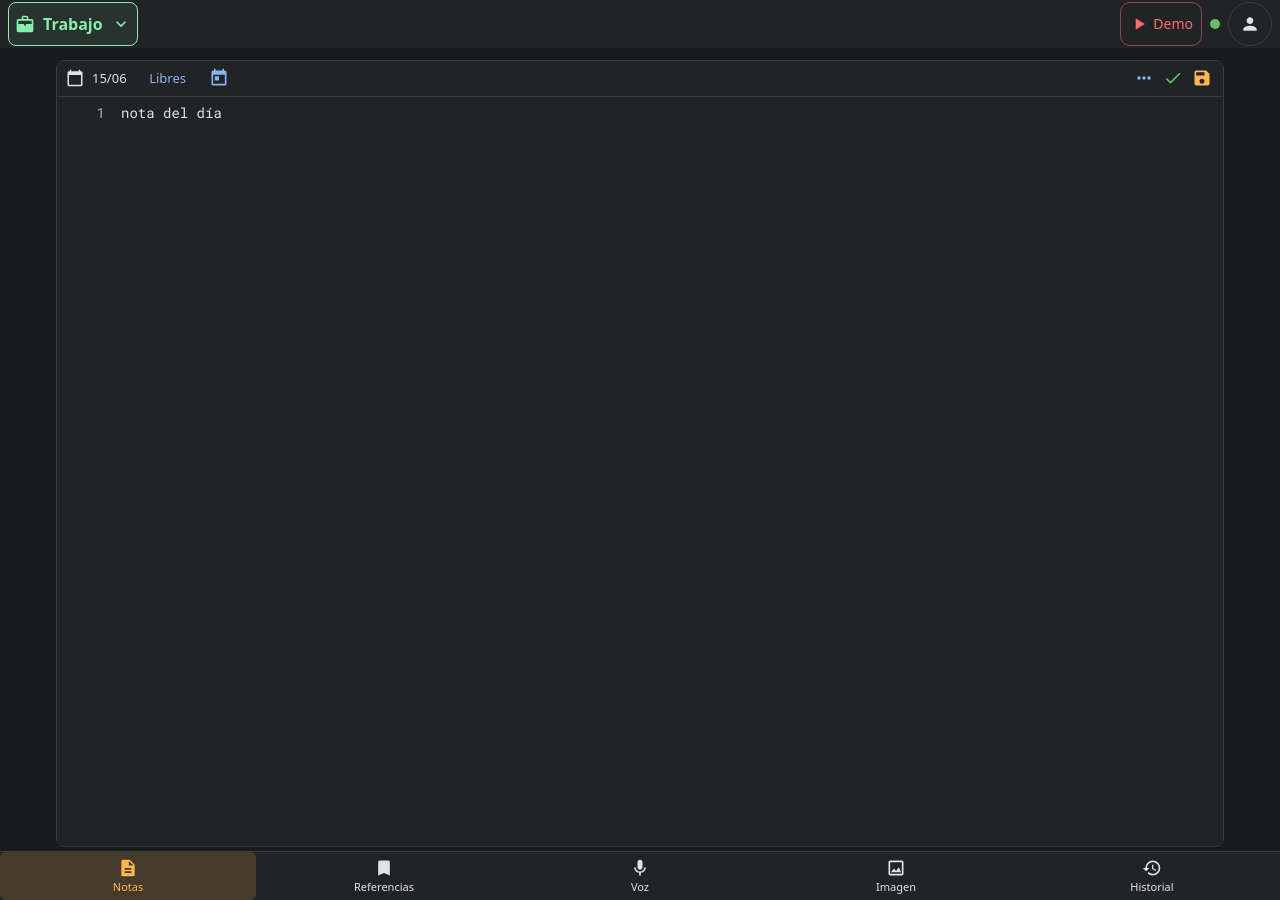
Scenario: Notas · una sola barra de herramientas (UI-05) › en angosto abre herramientas y devuelve el foco al botón al cerrar
Expected: the field named "Editor de nota diaria" reads "nota del día", [121,103,222,122]
Expected: the link named "Ir a hoy" is empty, [209,68,229,88]
Click the button named "Herramientas" at (1144, 78), box [1129,63,1159,93]
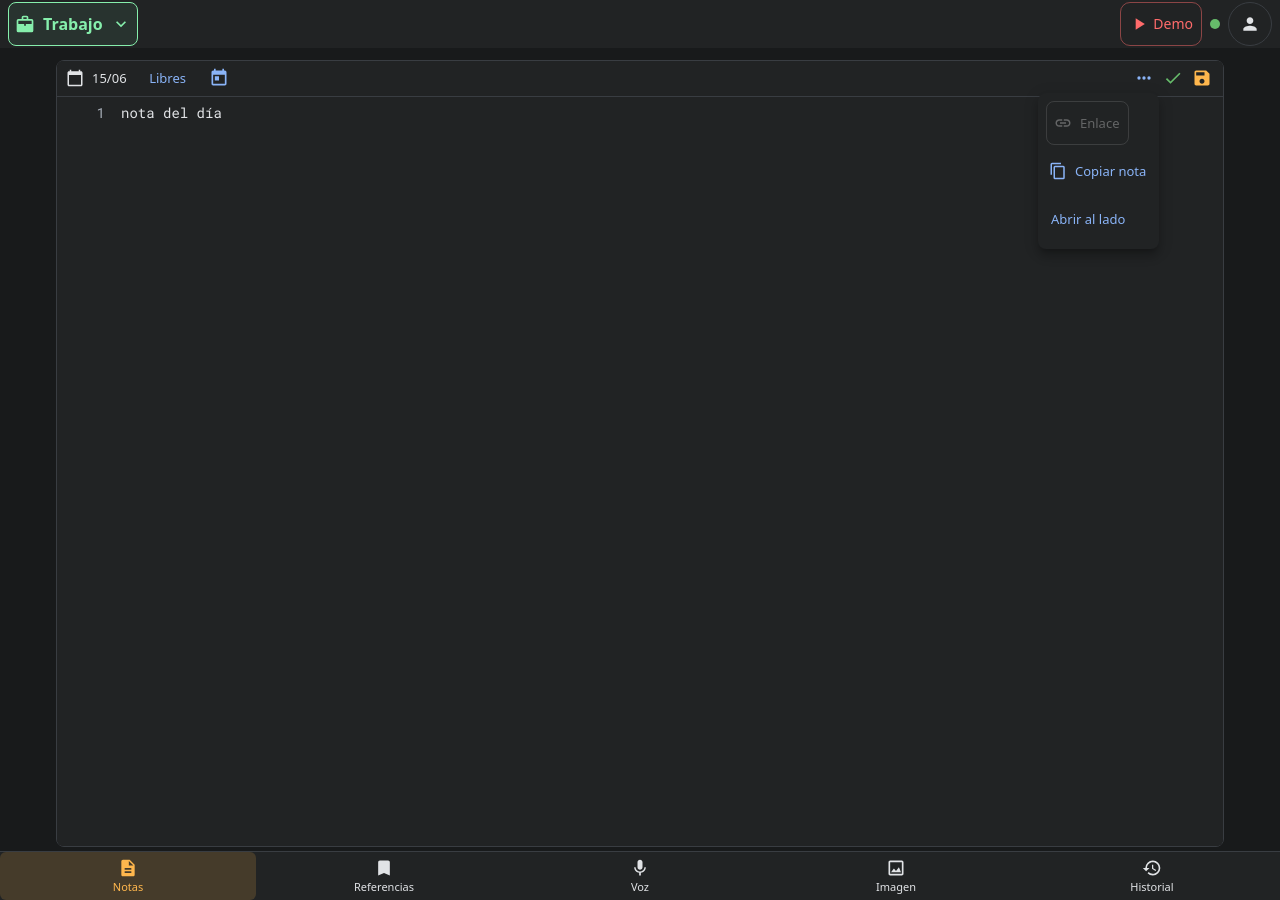
Result: the button "Copiar nota" is enabled at [1046,149,1151,193]
Result: the button with aria-label "Agregar enlace" is disabled at [1046,101,1130,145]
Press Escape
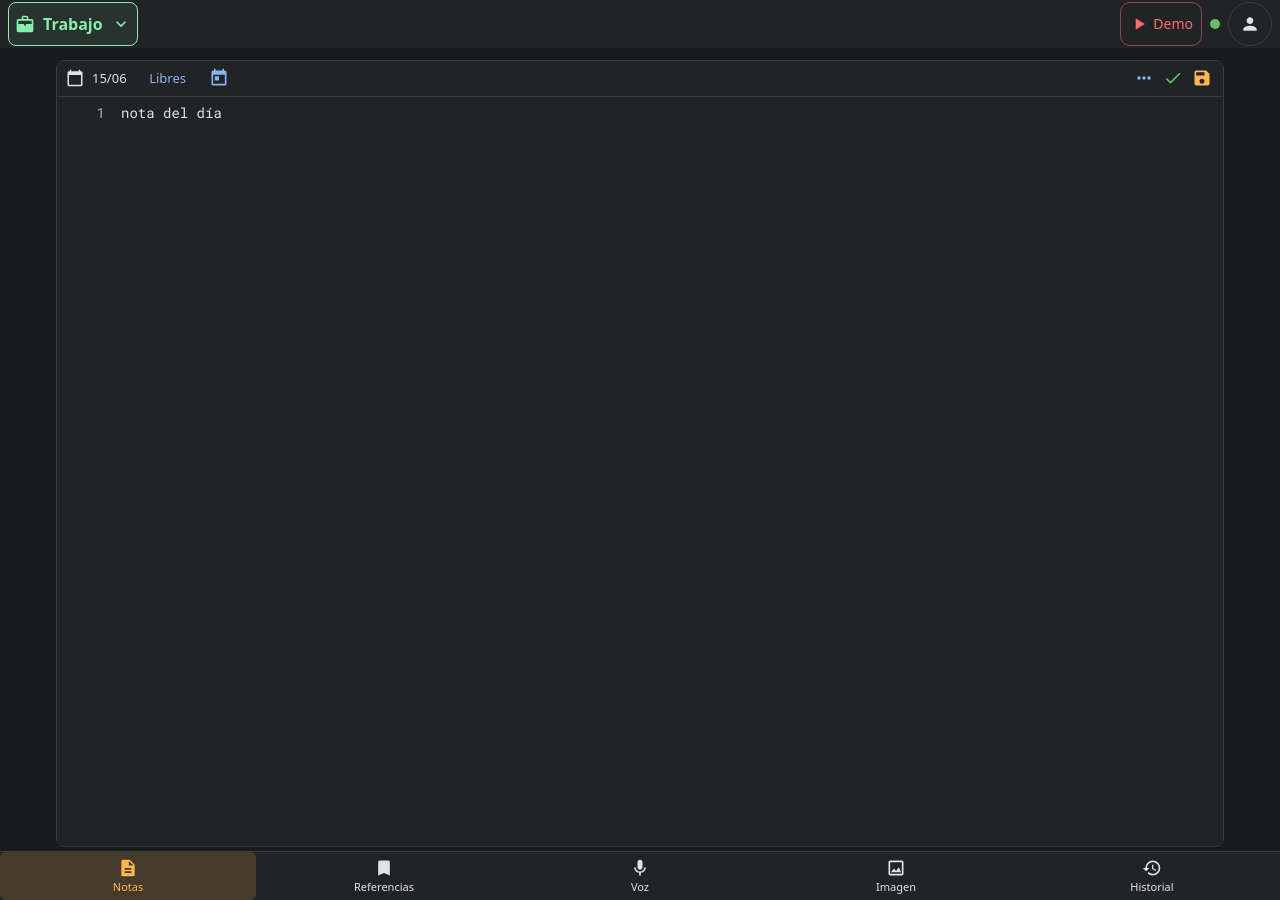
Result: the dialog "Enlace Copiar nota Abrir al lado" is gone
